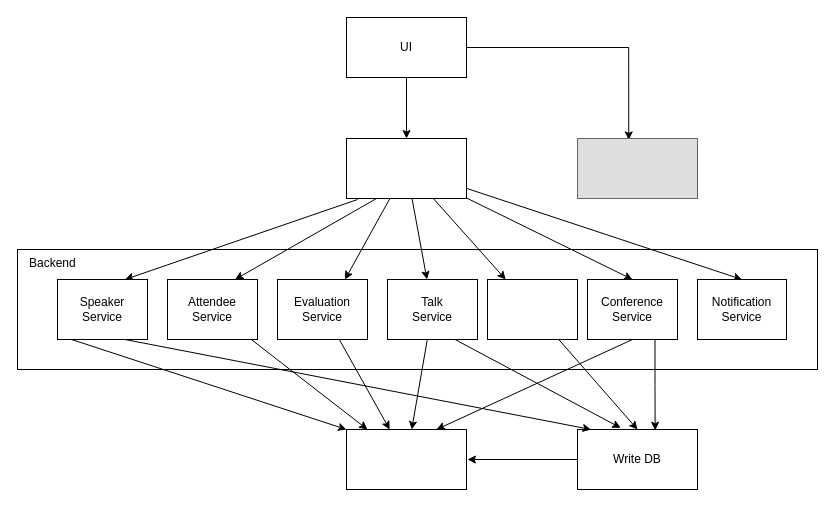
The diagram is 835 pixels wide and 507 high, and some of its shapes have lost their labels. The shapes that lost their labels are listed below. From the top down, each one's centre as x and y in pixels, then its label:
the point at 406,168: API Gateway
the point at 637,168: Static File Storage (S3)
the point at 532,309: User Service
the point at 406,459: Read DB
